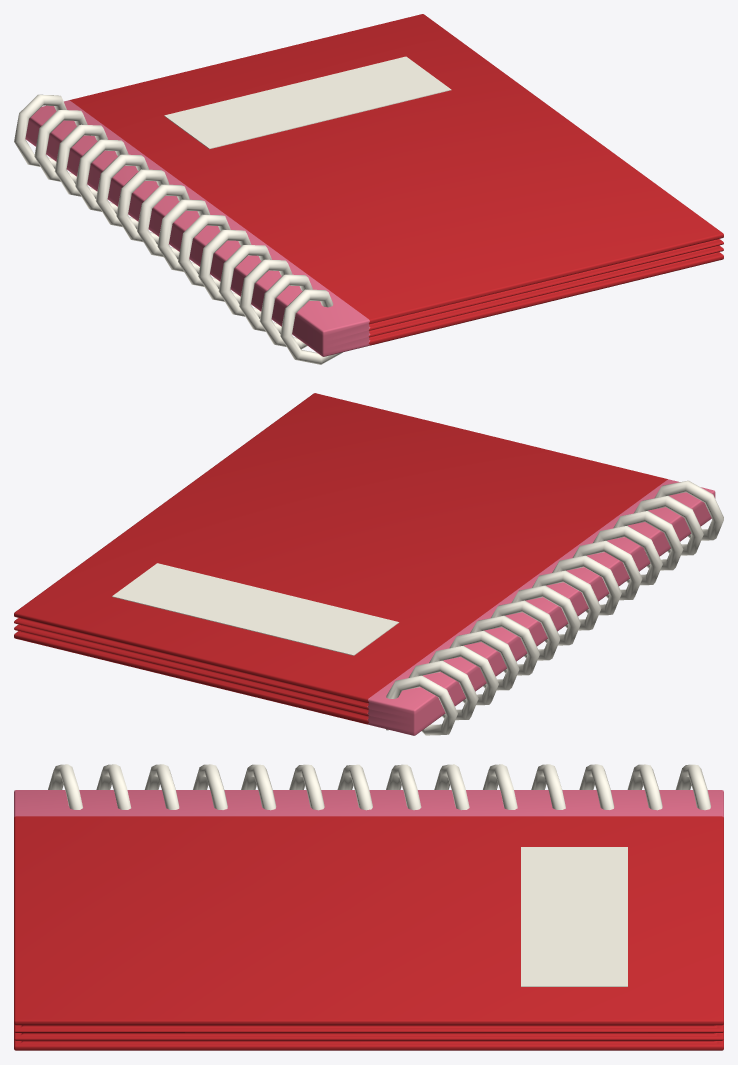
File: note_02.fbx
3 renders of one model, top to bottom at view 1: azimuth 30°, elevation 25°; view 2: azimuth 150°, elevation 25°; view 3: azimuth 270°, elevation 25°, orthographic. The views are drawn at different scales.
Parts seen in each view (by area): view 1: note_02; view 2: note_02; view 3: note_02.
Boxes of the visible parts, x1=… form: note_02: x1=14, y1=14, x2=723, y2=364; note_02: x1=14, y1=393, x2=723, y2=735; note_02: x1=14, y1=764, x2=723, y2=1050.
Size of the model in its own units: 1.9 by 0.2893 by 2.32.
